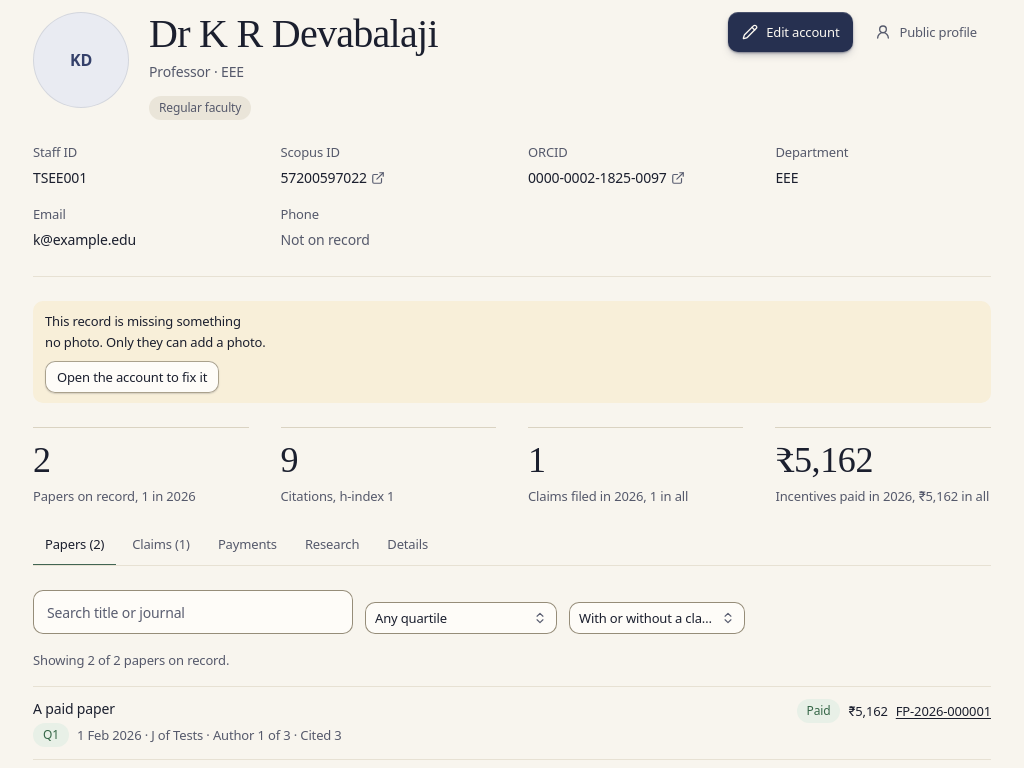
Test: the faculty record › opens the claims and payments tabs, and the details
Expected: the heading "Dr K R Devabalaji" is shown, x1=149 y1=11 x2=438 y2=56
What coordinates should you click on to do the following:
click the tab "Claims (1)"
I would click on:
 (161, 548)
Its box is x1=120 y1=530 x2=202 y2=566.
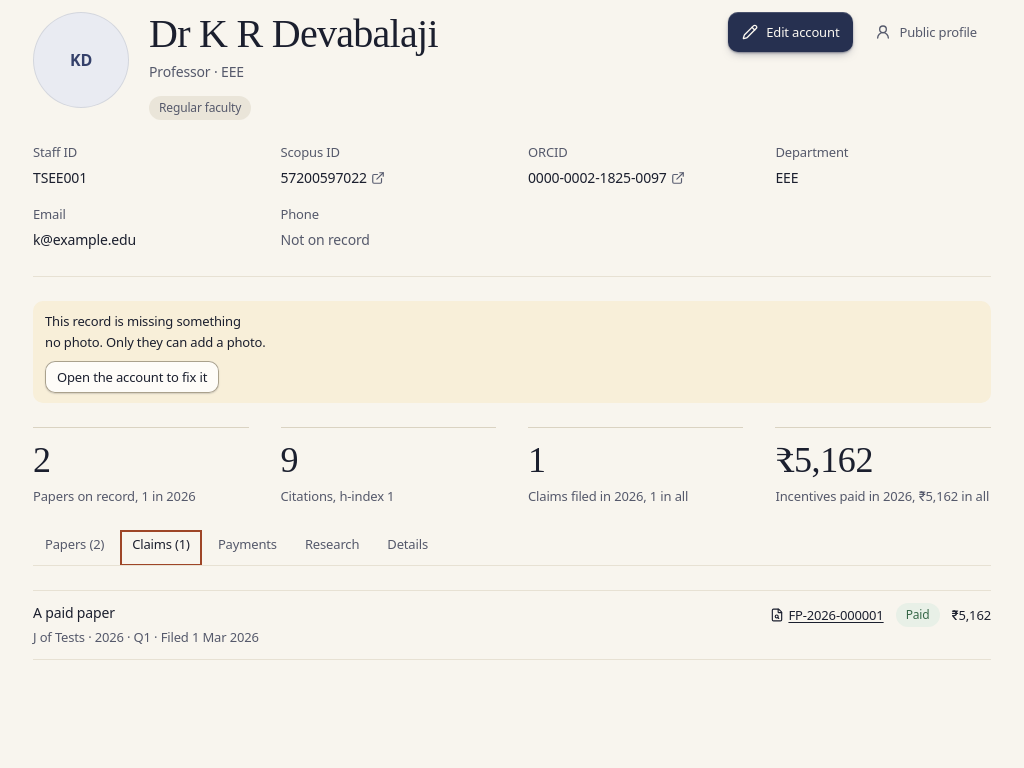
What coordinates should you click on to do the following:
click the tab "Payments"
I would click on:
 (247, 548)
Its box is x1=206 y1=530 x2=289 y2=566.
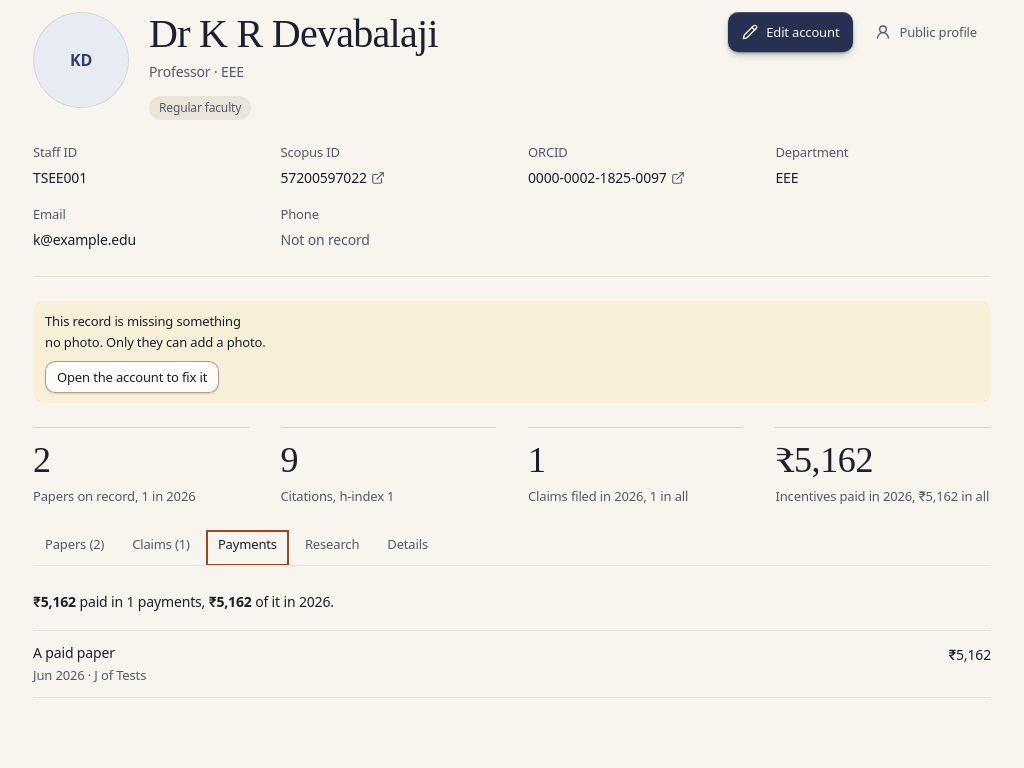
Expected: the list named "Payments" is shown, x1=33 y1=630 x2=991 y2=698
What coordinates should you click on to do the following:
click the tab "Details"
I would click on:
 (408, 548)
Its box is x1=375 y1=530 x2=440 y2=566.
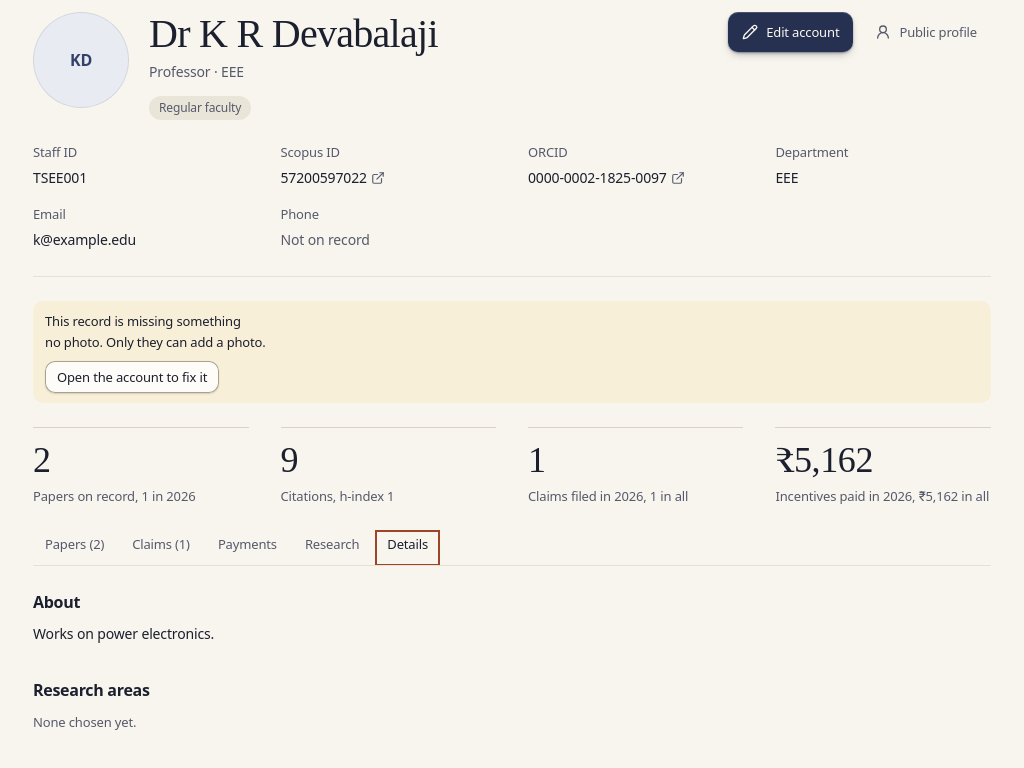
Expected: the text "Works on power electronics." is shown, x1=33 y1=624 x2=214 y2=643
